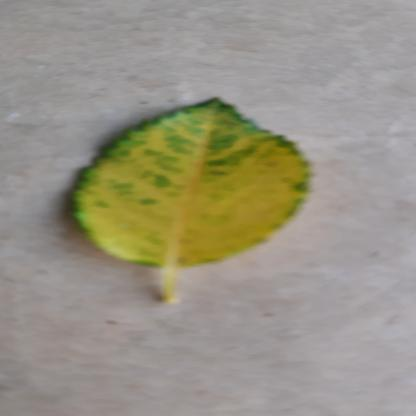black-spot: (54, 94, 319, 268)
